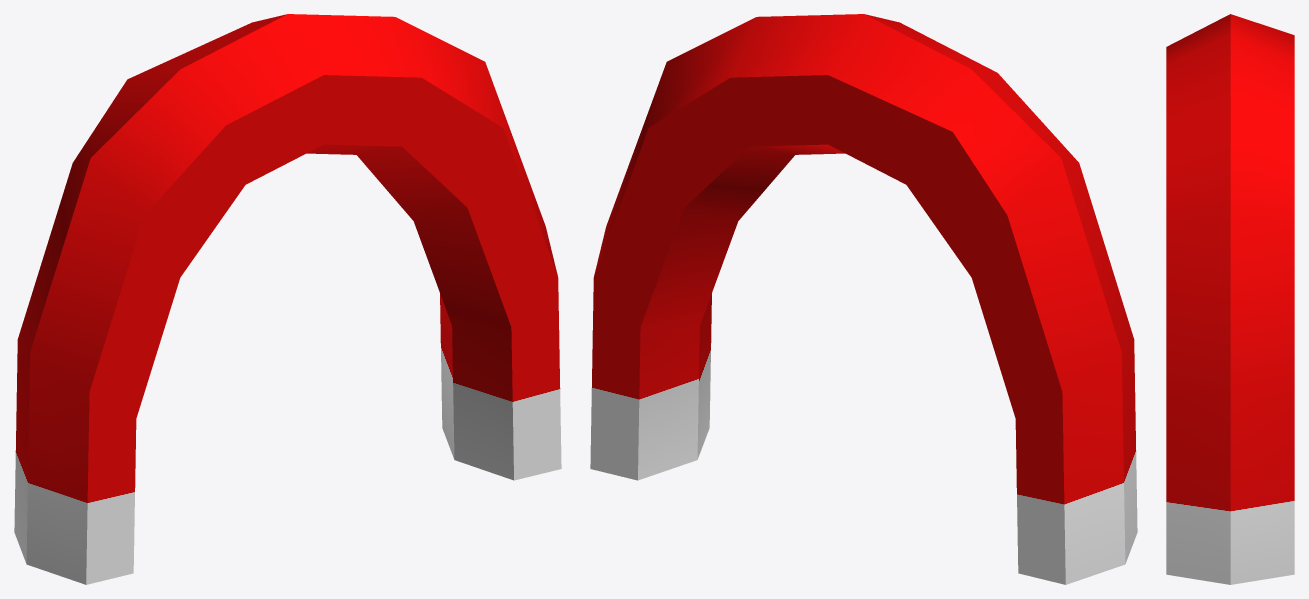
The model's file is magnet1.fbx.
3 renders of one model, left to right at view 1: azimuth 30°, elevation 25°; view 2: azimuth 150°, elevation 25°; view 3: azimuth 270°, elevation 25°, orthographic. The views are drawn at different scales.
Parts seen in each view (by area): view 1: pTorus1; view 2: pTorus1; view 3: pTorus1.
Boxes of the visible parts, <box> form: pTorus1: <box>14,14,561,584</box>; pTorus1: <box>590,14,1137,584</box>; pTorus1: <box>1166,14,1294,584</box>.
Bounding box in the file's own units: 385 × 343 × 91.63.
Materials: 1 (1 with a texture image).
